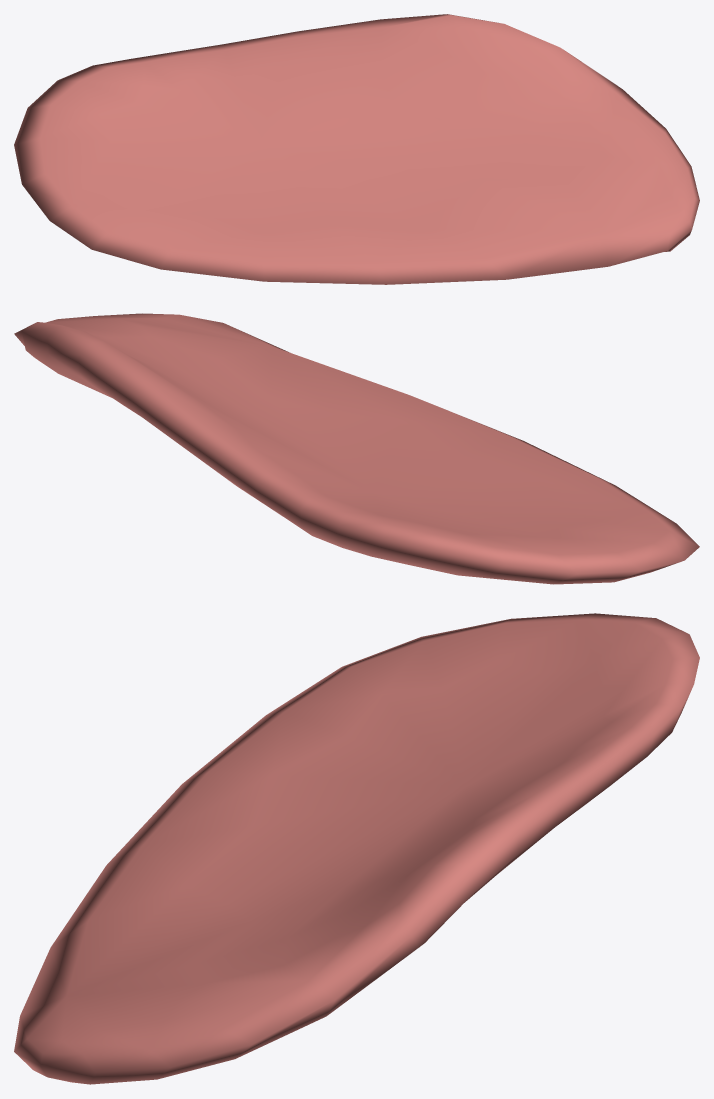
3 views of the same model, one above another, from view 1: azimuth 30°, elevation 25°; view 2: azimuth 150°, elevation 25°; view 3: azimuth 270°, elevation 25° (orthographic). The views are drawn at different scales.
Parts seen in each view (by area): view 1: ZA_2a746364a48ca8bc; view 2: ZA_2a746364a48ca8bc; view 3: ZA_2a746364a48ca8bc.
Boxes of the visible parts, <box> form: ZA_2a746364a48ca8bc: <box>14,14,699,284</box>; ZA_2a746364a48ca8bc: <box>14,313,699,584</box>; ZA_2a746364a48ca8bc: <box>14,613,699,1084</box>.
Size of the model in its own units: 0.00925 by 0.00218 by 0.00664.
